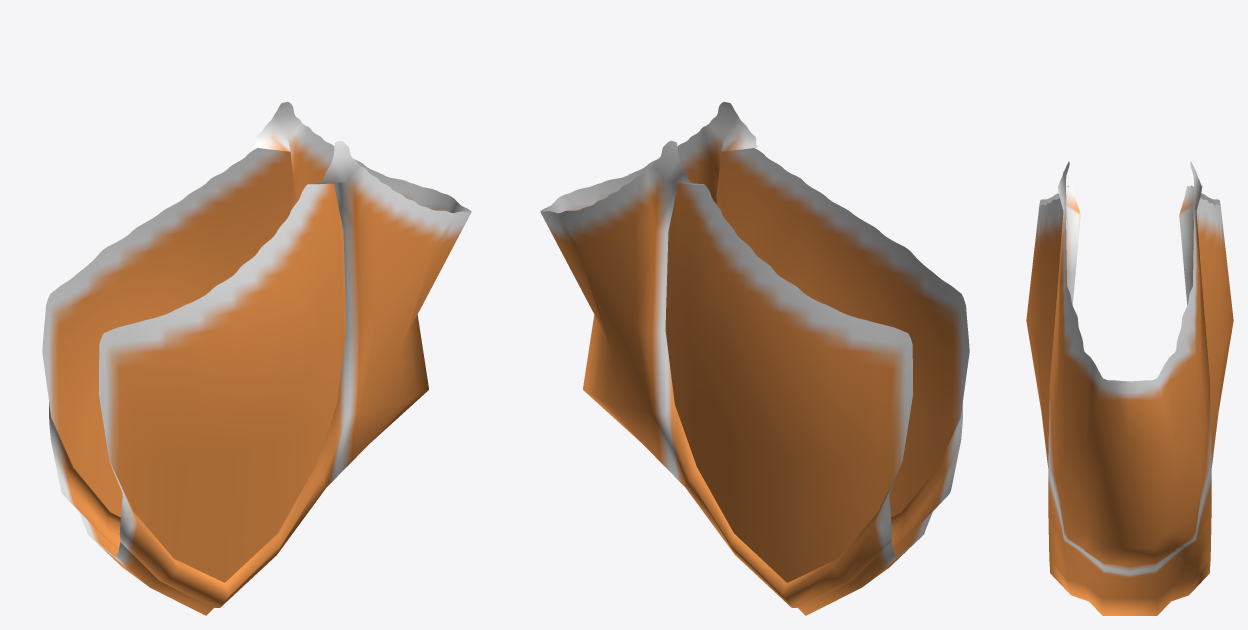
Rendered from ArmorHeavy.fbx.
The picture shows the model from 3 angles, left to right: view 1: azimuth 30°, elevation 25°; view 2: azimuth 150°, elevation 25°; view 3: azimuth 270°, elevation 25°; orthographic projection. The views are drawn at different scales.
Parts seen in each view (by area): view 1: ArmorHeavy; view 2: ArmorHeavy; view 3: ArmorHeavy.
Boxes of the visible parts, x1,y1,x2,y2 form: ArmorHeavy: (42,102,471,615); ArmorHeavy: (540,102,969,615); ArmorHeavy: (1026,161,1233,615).
Bounding box in the file's own units: 0.7026 × 0.8393 × 0.2451.
